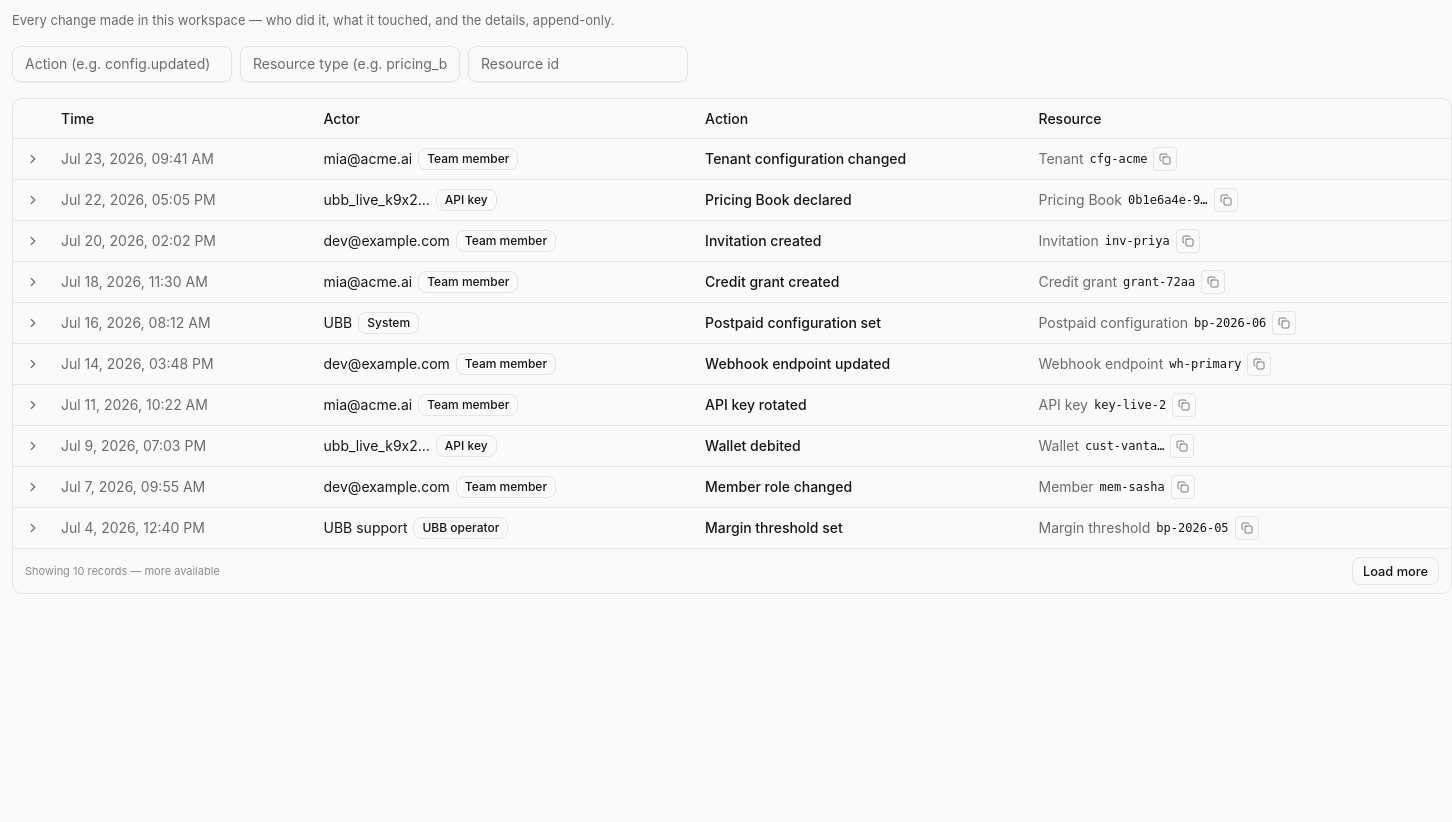
Scenario: AuditLogPage › expands a row into a key-value metadata tree (not raw JSON)
Check: the text "Tenant configuration changed" is shown, box [697,139,1030,180]
Click the button named "Show details" next to "Jul 23, 2026, 09:41 AM" at (33, 159), box [21,147,45,171]
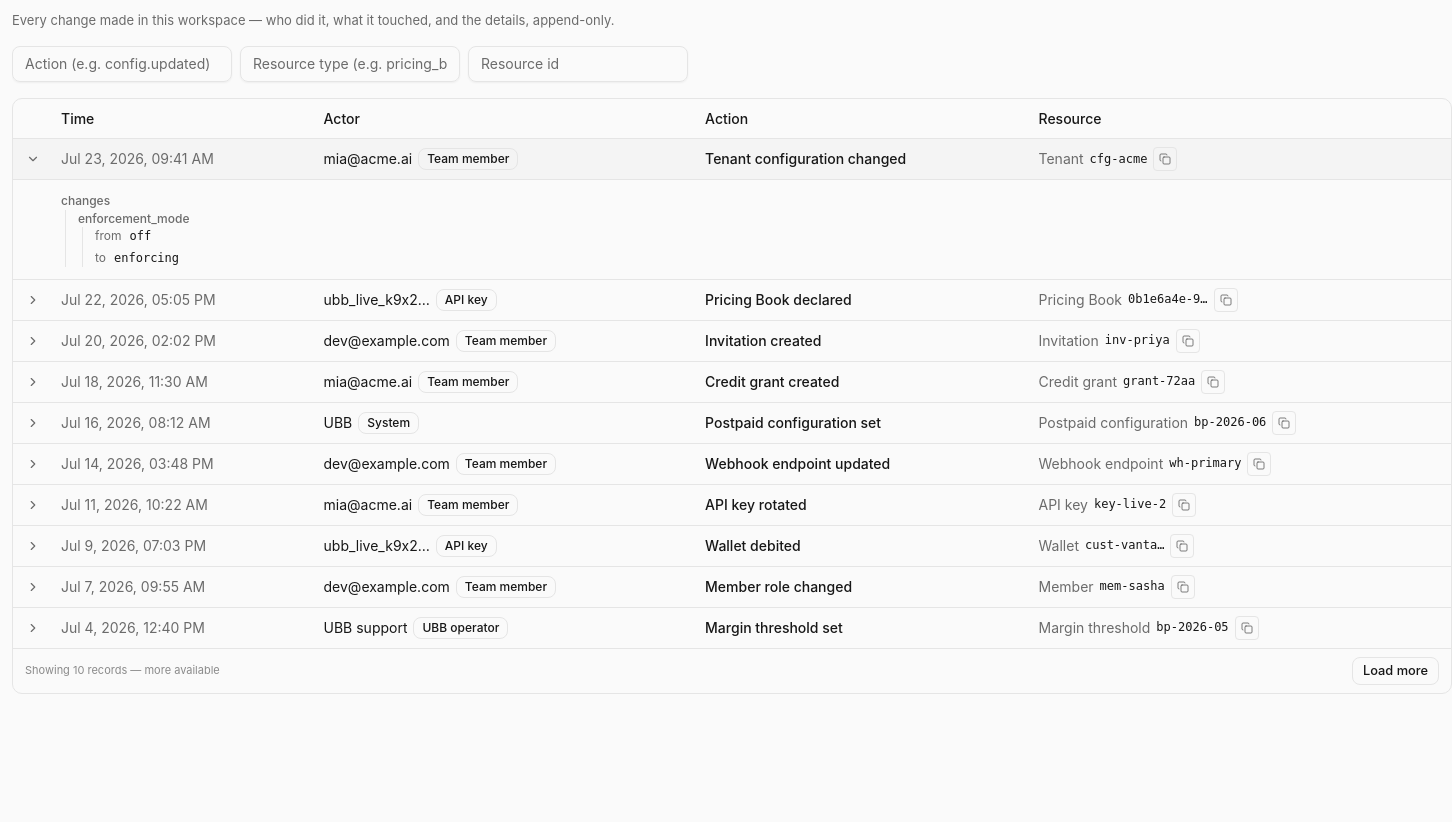
Check: the text "changes" is shown, box [61,193,110,208]
Check: the text "enforcement_mode" is shown, box [78,210,190,226]
Check: the text "enforcing" is shown, box [114,250,179,267]
